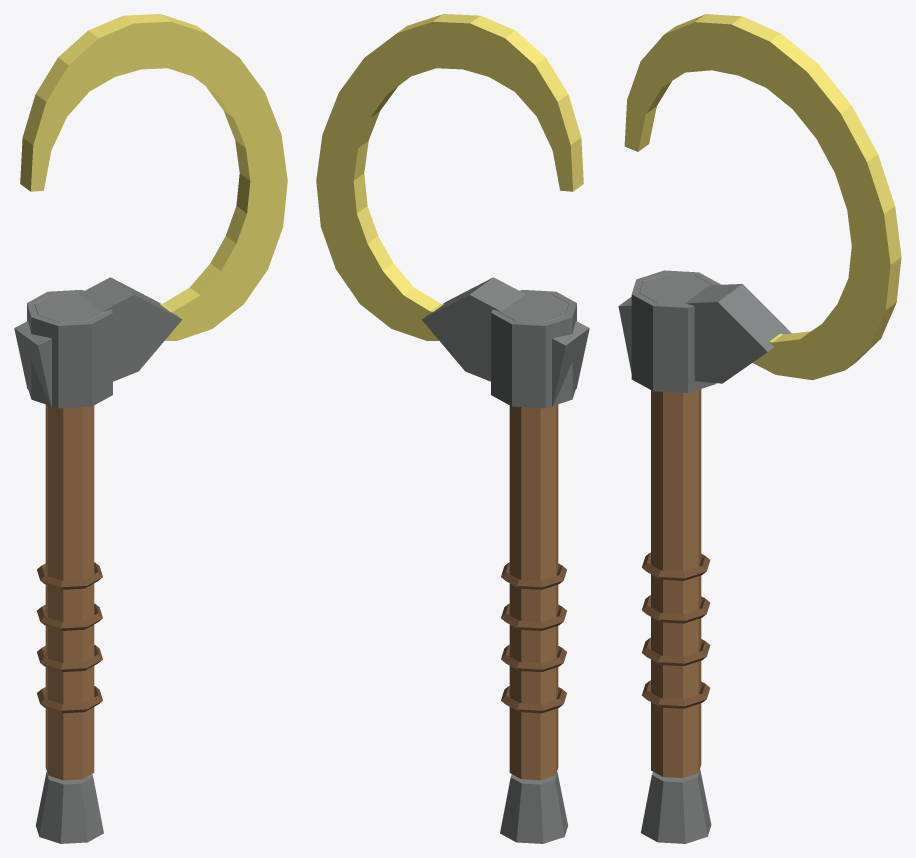
File: t7_sickle.glb
3 views of the same model, side by side, from view 1: azimuth 30°, elevation 25°; view 2: azimuth 150°, elevation 25°; view 3: azimuth 330°, elevation 25° (orthographic). The views are drawn at different scales.
Parts seen in each view (by area): view 1: CurvedBlade, WoodHandle, BladeSocket, BladeBasePlate, BottomPommel, LeatherWrap3, LeatherWrap1, LeatherWrap4, LeatherWrap2; view 2: CurvedBlade, WoodHandle, BladeSocket, BladeBasePlate, BottomPommel, LeatherWrap3, LeatherWrap1, LeatherWrap4, LeatherWrap2; view 3: CurvedBlade, WoodHandle, BladeSocket, BladeBasePlate, BottomPommel, LeatherWrap4, LeatherWrap2, LeatherWrap3, LeatherWrap1.
Boxes of the visible parts, x1,y1,x2,y2 form: CurvedBlade: (20,14,287,340); WoodHandle: (45,404,94,780); BladeSocket: (27,289,112,408); BladeBasePlate: (14,277,182,406); BottomPommel: (35,772,103,843); LeatherWrap3: (37,603,102,630); LeatherWrap1: (37,686,102,713); LeatherWrap4: (37,562,102,589); LeatherWrap2: (37,644,102,672); CurvedBlade: (316,14,583,340); WoodHandle: (509,404,558,780); BladeSocket: (491,289,576,408); BladeBasePlate: (421,277,589,406); BottomPommel: (500,772,568,843); LeatherWrap3: (501,603,566,630); LeatherWrap1: (501,686,566,713); LeatherWrap4: (501,562,566,589); LeatherWrap2: (501,644,566,672); CurvedBlade: (624,14,901,380); WoodHandle: (651,389,701,777); BladeSocket: (631,270,720,393); BladeBasePlate: (618,284,791,383); BottomPommel: (641,769,711,843); LeatherWrap4: (642,552,710,580); LeatherWrap2: (642,637,710,666); LeatherWrap3: (642,595,710,623); LeatherWrap1: (642,680,710,708).
Bounding box in the file's own units: 0.5877 × 1.74 × 0.176.
